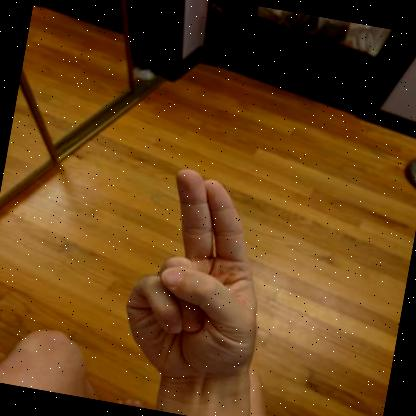U: (126, 169, 256, 394)
